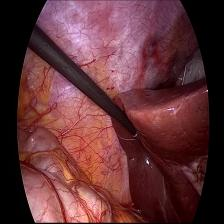Specimen Bag: (178, 51, 208, 86)
